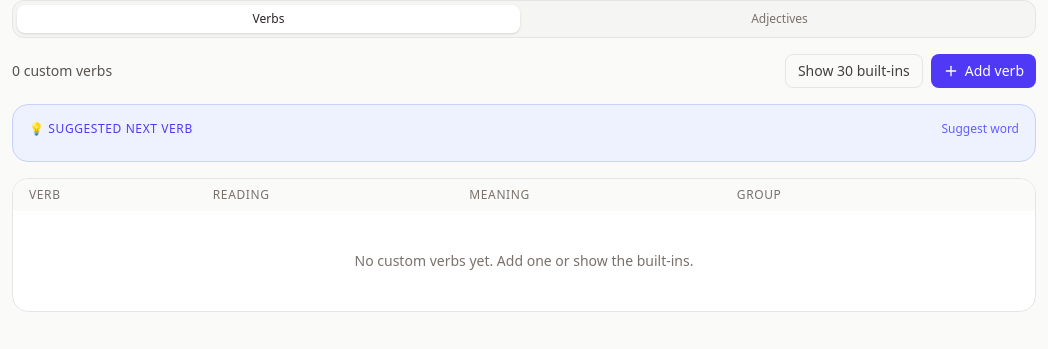
Scenario: CustomDictionaryViewSub suggestions › shows calm copy for suggestion transport failures
This screenshot has width=1048, height=349.
Click the button "Suggest word": click(980, 129) [942,121,1019,137]
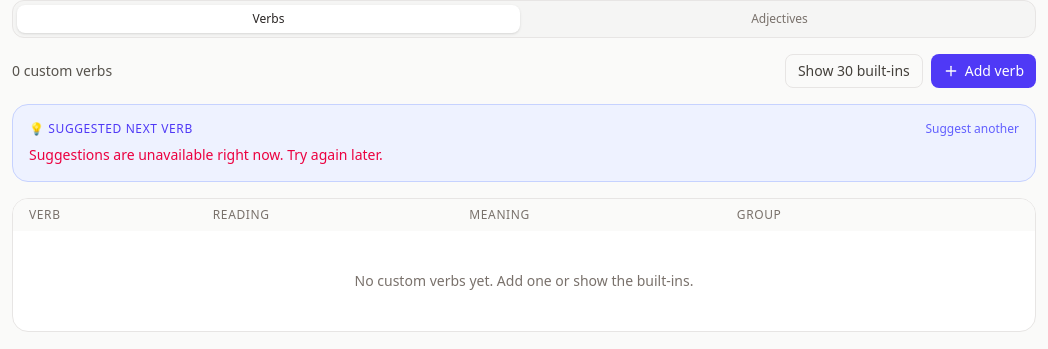
Result: the text "Suggestions are unavailable right now. Try again later." is shown at [29,145,383,164]
